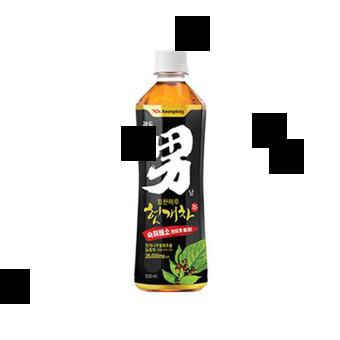heotgaecha: (131, 49, 211, 294)
